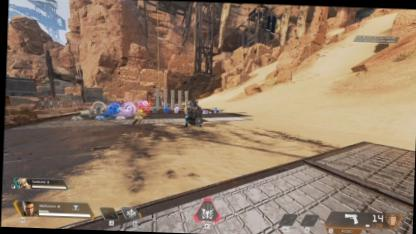Target: (183, 99, 205, 128)
